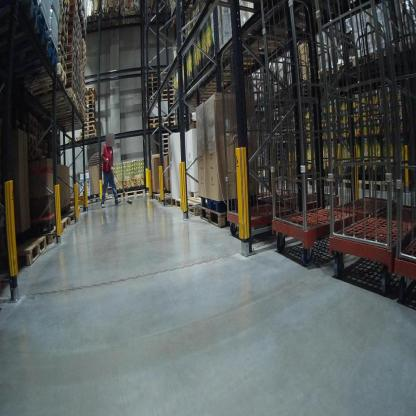pallet: (4, 43, 60, 80), (3, 16, 47, 59), (9, 232, 47, 277), (25, 64, 69, 98), (2, 3, 42, 36), (200, 198, 235, 231), (43, 90, 78, 116), (182, 195, 210, 216), (39, 222, 60, 246), (56, 35, 69, 57), (24, 133, 39, 151), (59, 11, 72, 30), (56, 43, 67, 65), (58, 24, 69, 46), (172, 194, 186, 210), (158, 194, 174, 208), (59, 1, 72, 18), (59, 14, 69, 36), (88, 13, 99, 33), (57, 215, 71, 230), (28, 113, 39, 131), (86, 196, 102, 208), (104, 190, 125, 199), (125, 188, 146, 197), (85, 85, 98, 98), (65, 210, 77, 224), (57, 58, 68, 72), (78, 134, 100, 141), (25, 126, 37, 138), (68, 81, 78, 95), (151, 192, 166, 201), (160, 72, 175, 81), (81, 117, 97, 125), (67, 30, 74, 48), (66, 135, 80, 144), (72, 204, 80, 219), (36, 148, 44, 163), (145, 71, 160, 79), (68, 63, 77, 75), (69, 47, 78, 59), (70, 72, 77, 86), (145, 122, 161, 128), (161, 86, 176, 92), (68, 54, 76, 65), (146, 91, 160, 97), (161, 117, 175, 123), (68, 27, 77, 36), (85, 93, 95, 101), (161, 112, 177, 117), (81, 125, 94, 131), (160, 133, 171, 140), (80, 130, 98, 134), (147, 81, 159, 87), (85, 97, 95, 104), (161, 123, 175, 128), (161, 95, 175, 100), (161, 81, 175, 86), (84, 103, 94, 109), (86, 106, 96, 112), (147, 76, 159, 81), (85, 112, 96, 117), (161, 138, 169, 144), (161, 142, 169, 148), (147, 87, 159, 91), (145, 119, 161, 122), (161, 147, 170, 152), (160, 100, 175, 103), (161, 92, 176, 95), (162, 152, 170, 157), (147, 97, 160, 100), (168, 104, 175, 108), (148, 117, 161, 119)
